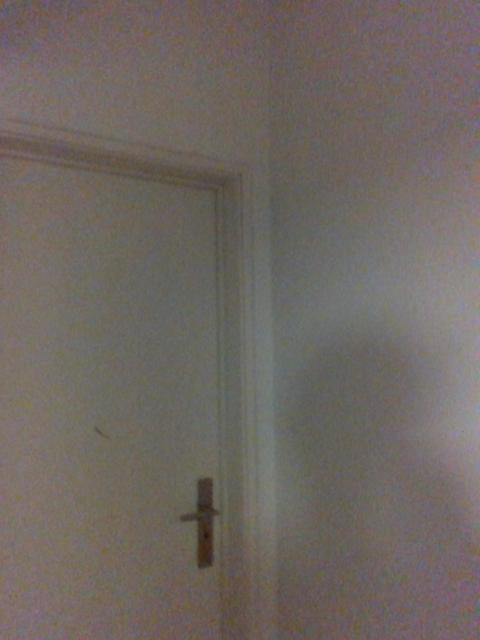door: (4, 164, 223, 639)
